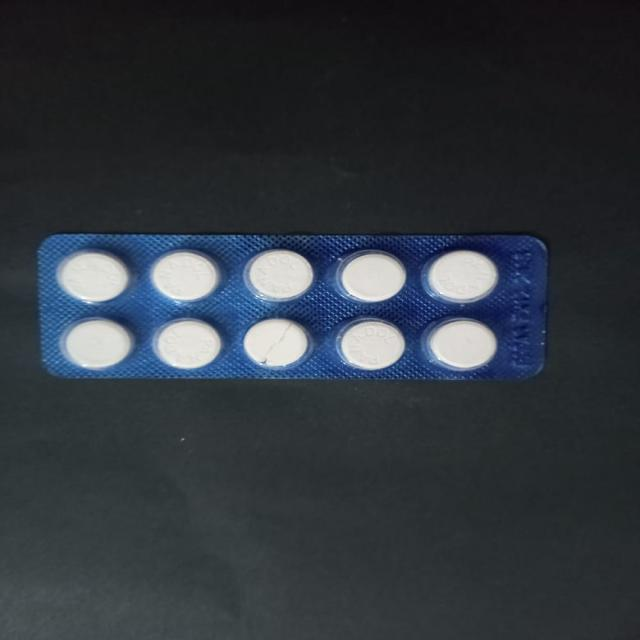defect: (239, 316, 320, 372)
